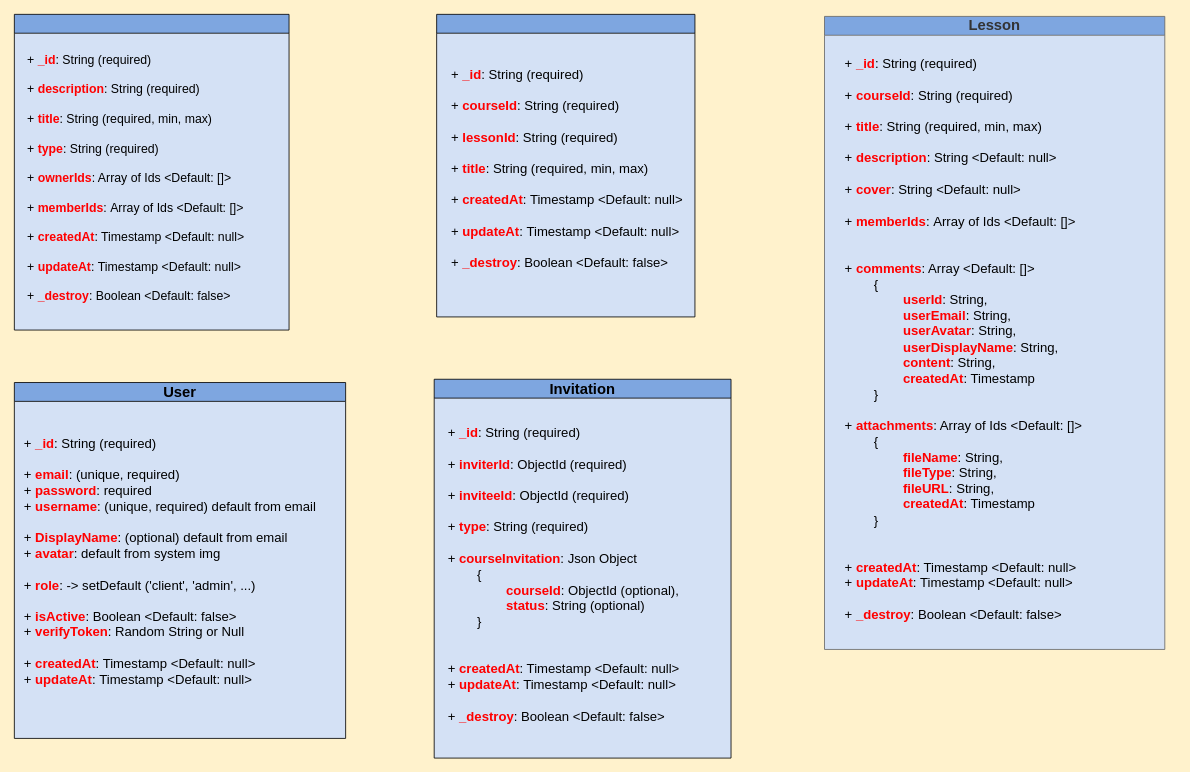
This 1190x772 diagram has some shape labels left out. The shapes that lost their labels are listed below. From the top down, each one's box as (x1, y1, x2, y2) in pixels, then its label:
(14, 14, 289, 330): Course
(436, 14, 695, 317): Quiz
